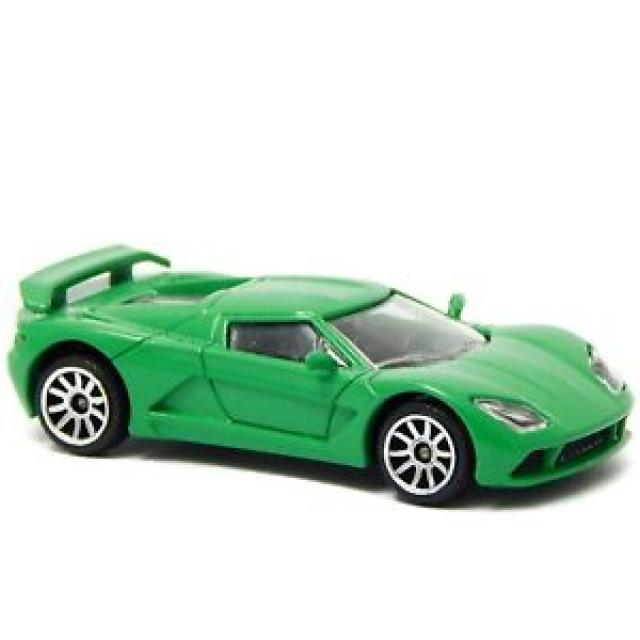Car: (6, 241, 634, 506)
